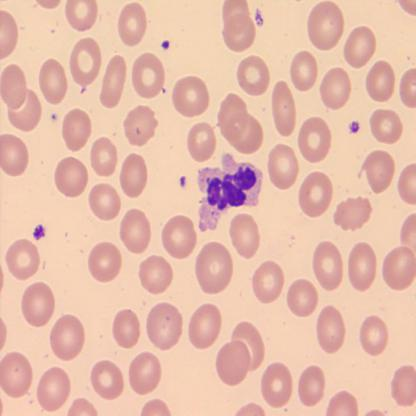Segmented neutrophil: (193, 150, 266, 233)
